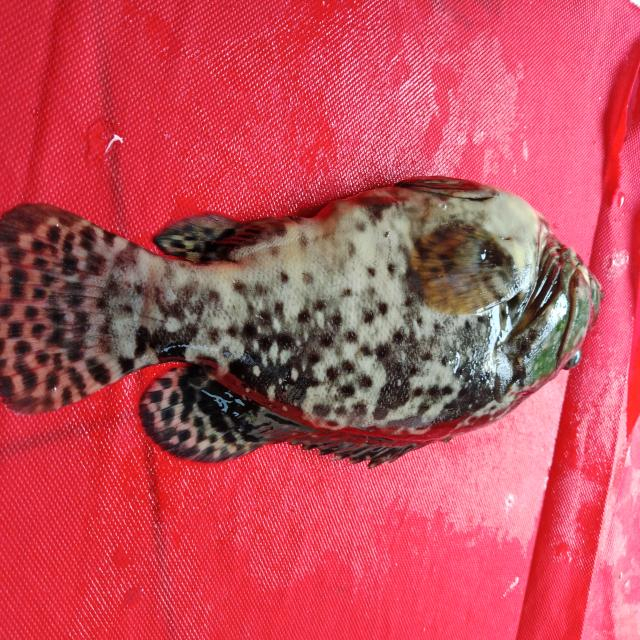ikan: (17, 142, 610, 483)
